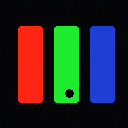0 point: (65, 89, 73, 97)
